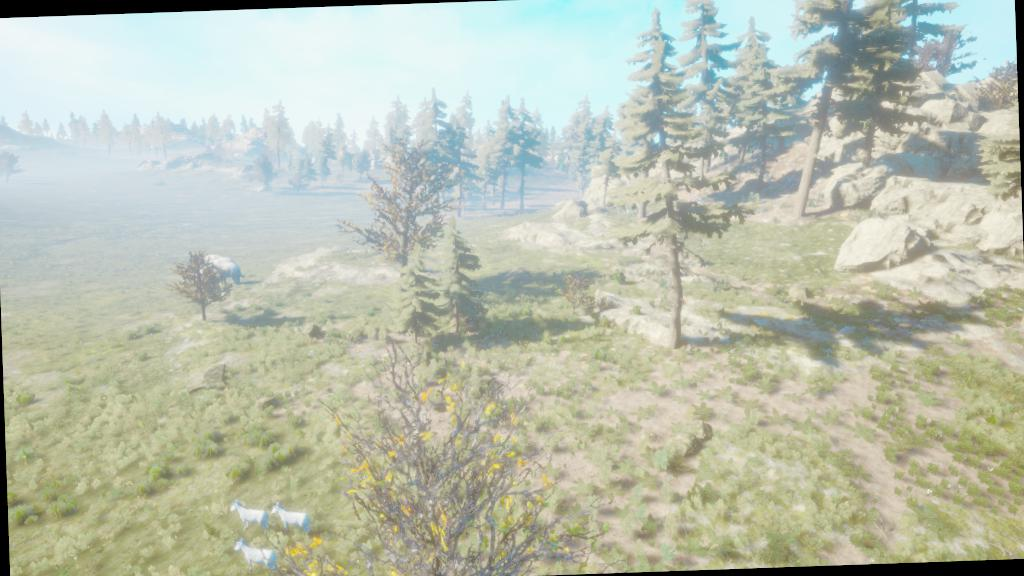elephant: (200, 250, 246, 284)
zebra: (268, 497, 316, 535), (228, 498, 274, 534), (230, 541, 278, 572)
